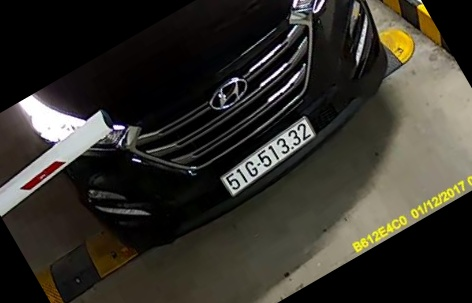plate: (210, 119, 323, 201)
